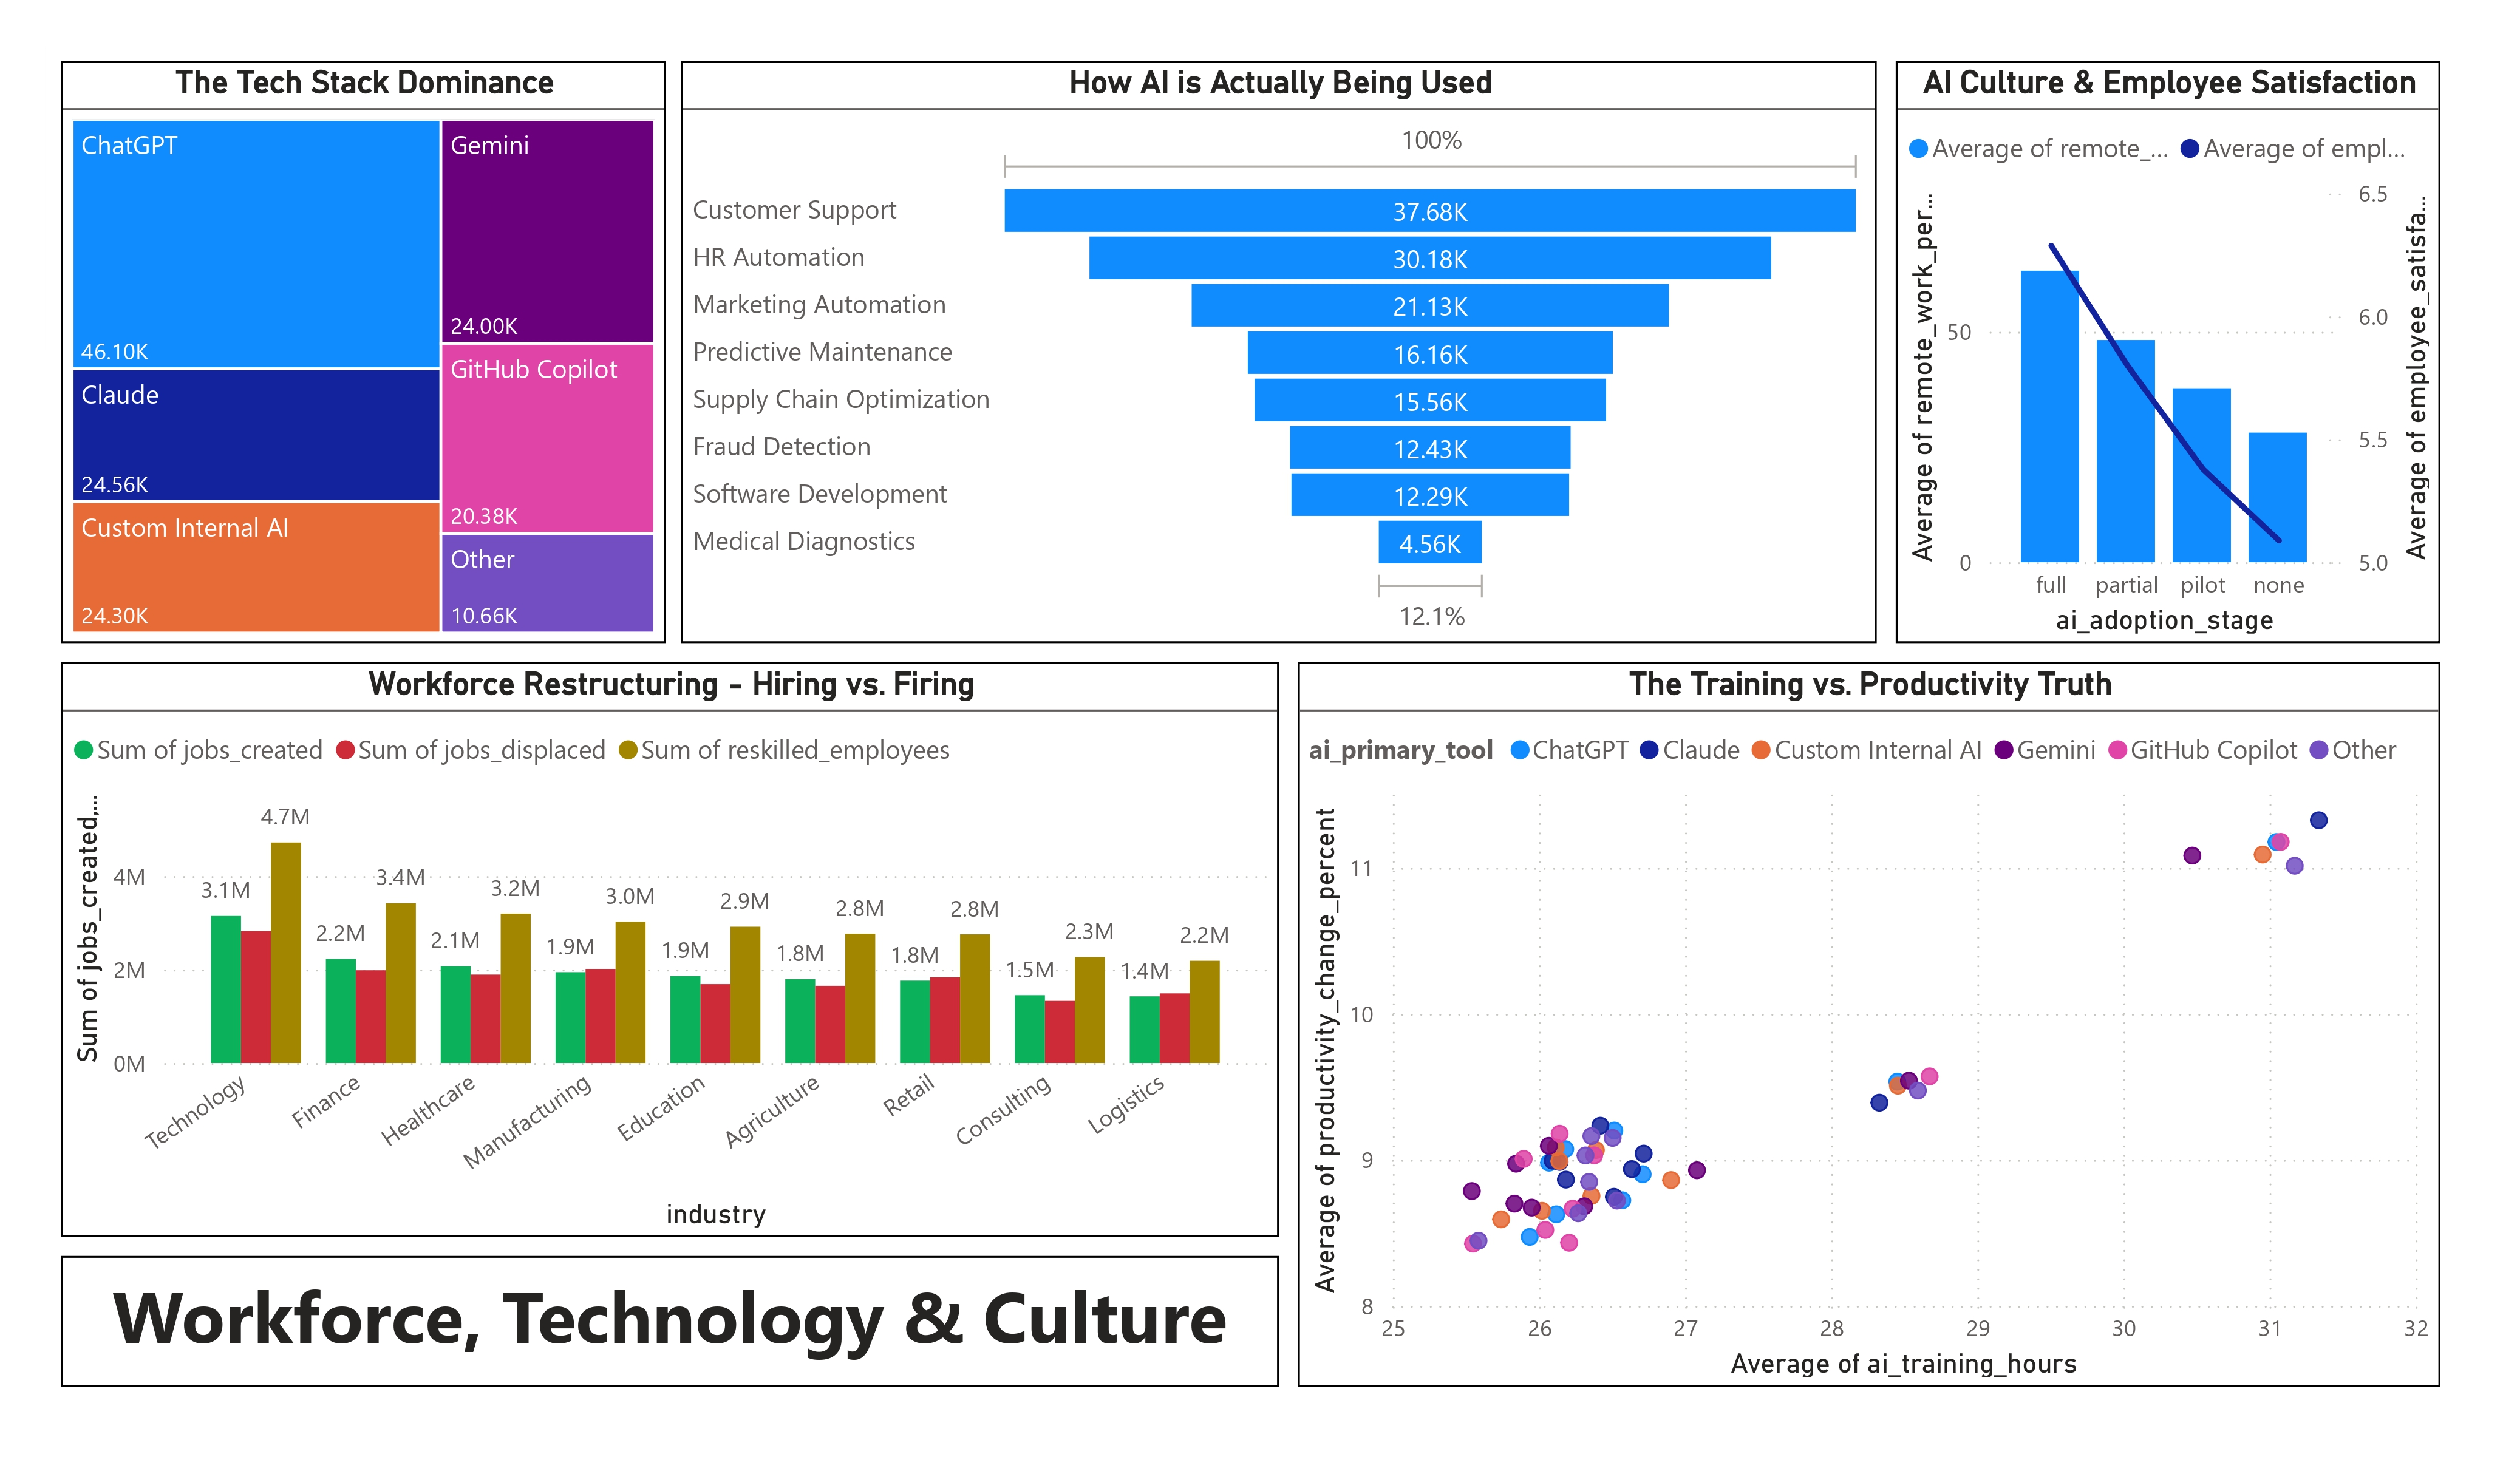

The page's visual inventory and layout, read from the dashboard file:
{"tool":"powerbi","page":{"name":"Page 2","canvas":[1280,720],"ordinal":1},"visuals":[{"type":"treemap","title":"The Tech Stack Dominance","fields":{"Group":["ai_company_adoption.ai_primary_tool"],"Values":["CountNonNull(ai_company_adoption.company_id)"]},"box":[8.3,8.3,318.3,306.7],"z":0},{"type":"funnel","title":"How AI is Actually Being Used","fields":{"Category":["ai_company_adoption.ai_use_case"],"Y":["CountNonNull(ai_company_adoption.company_id)"]},"box":[335,8.3,630,306.7],"z":1000},{"type":"clusteredColumnChart","title":"Workforce Restructuring - Hiring vs. Firing","fields":{"Category":["ai_company_adoption.industry"],"Y":["Sum(ai_company_adoption.jobs_created)","Sum(ai_company_adoption.jobs_displaced)","Sum(ai_company_adoption.reskilled_employees)"]},"box":[8.3,325,641.7,303.3],"z":2000},{"type":"scatterChart","title":"The Training vs. Productivity Truth","fields":{"X":["ai_company_adoption.ai_training_hours"],"Y":["Avg(ai_company_adoption.productivity_change_percent)"],"Category":["ai_company_adoption.industry"],"Series":["ai_company_adoption.ai_primary_tool"]},"box":[660,325,601.7,381.7],"z":3000},{"type":"lineStackedColumnComboChart","title":"AI Culture & Employee Satisfaction","fields":{"Category":["ai_company_adoption.ai_adoption_stage"],"Y":["Avg(ai_company_adoption.remote_work_percentage)"],"Y2":["Avg(ai_company_adoption.employee_satisfaction_score)"]},"box":[975,8.3,286.7,306.7],"z":4000},{"type":"textbox","box":[8.3,638.3,641.7,68.3],"z":5000}]}

Visuals, with their boxes in screenshot pixels (x1, y1, x2, y2):
"The Tech Stack Dominance" treemap: bbox(68, 68, 664, 642)
"How AI is Actually Being Used" funnel: bbox(680, 68, 1860, 642)
"Workforce Restructuring - Hiring vs. Firing" clusteredColumnChart: bbox(68, 661, 1270, 1229)
"The Training vs. Productivity Truth" scatterChart: bbox(1289, 661, 2416, 1376)
"AI Culture & Employee Satisfaction" lineStackedColumnComboChart: bbox(1878, 68, 2416, 642)
textbox: bbox(68, 1248, 1270, 1376)
